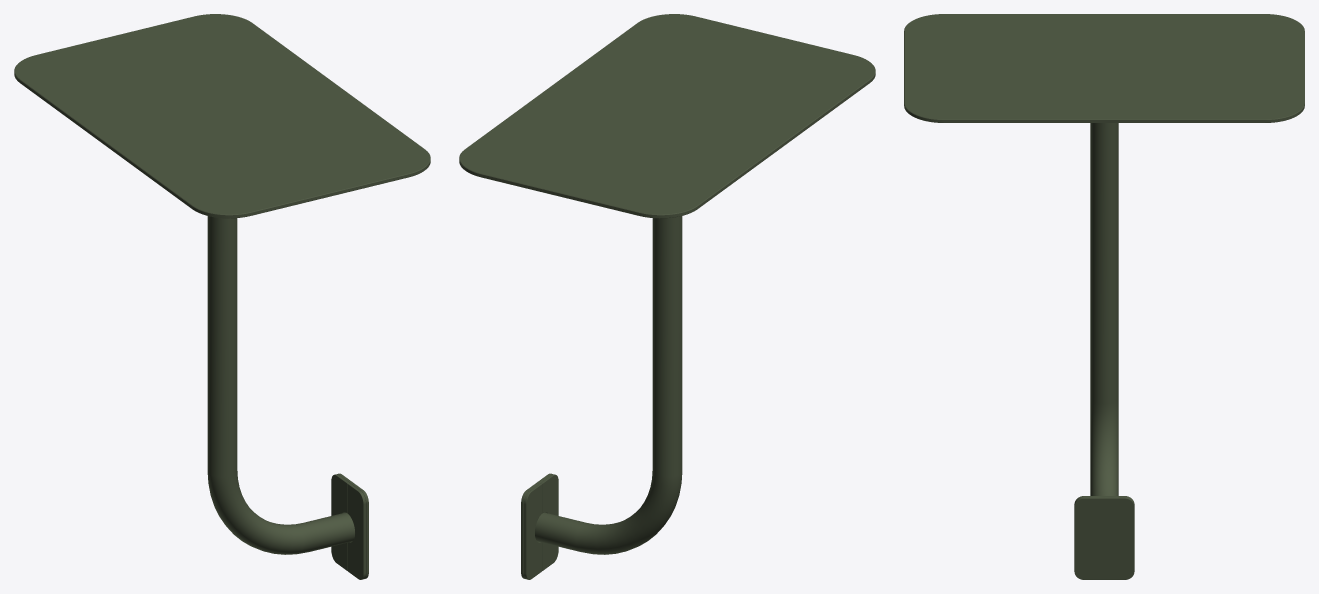
Rendered from coffeetable_susp_rect.glb.
3 views of the same model, side by side, from view 1: azimuth 30°, elevation 25°; view 2: azimuth 150°, elevation 25°; view 3: azimuth 270°, elevation 25° (orthographic). The views are drawn at different scales.
Parts seen in each view (by area): view 1: rb_coffeetable_susp_rect_black; view 2: rb_coffeetable_susp_rect_black; view 3: rb_coffeetable_susp_rect_black.
Part boxes in pixels (x1,y1,x2,y2): rb_coffeetable_susp_rect_black: [14, 14, 430, 579]; rb_coffeetable_susp_rect_black: [459, 14, 875, 579]; rb_coffeetable_susp_rect_black: [904, 14, 1304, 579].
Size of the model in its own units: 0.265 by 0.5 by 0.4.
